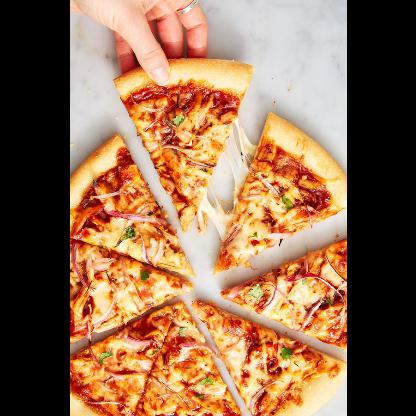pizza: (113, 57, 254, 232), (212, 112, 348, 274), (71, 133, 197, 279), (192, 300, 348, 415), (223, 239, 348, 351), (71, 240, 193, 346), (132, 302, 243, 415), (70, 302, 179, 415)
